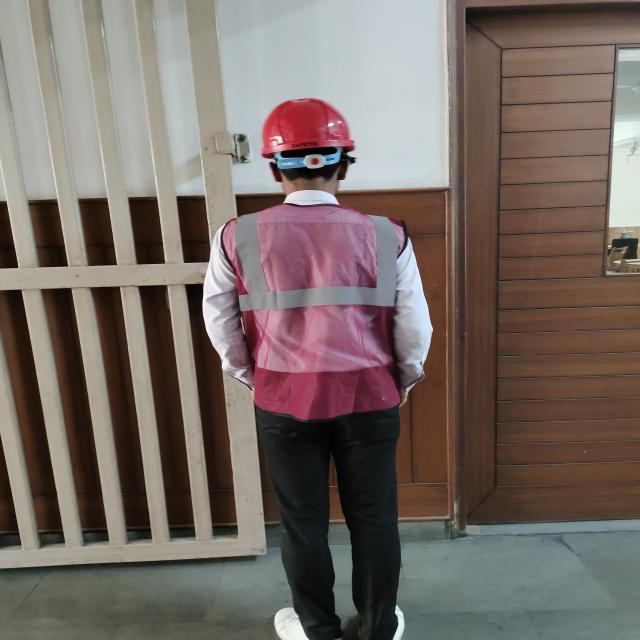safe: (202, 97, 430, 640)
